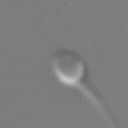normal: (74, 80, 122, 128)
